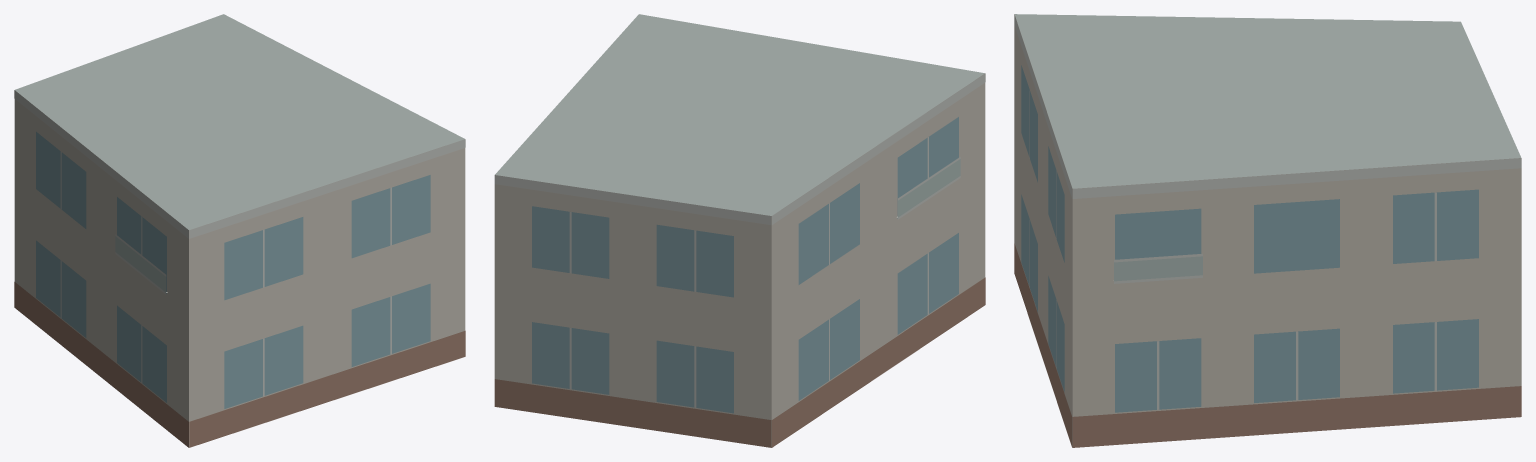
File: survey-upis-32996016.glb
3 views of the same model, side by side, from view 1: azimuth 30°, elevation 25°; view 2: azimuth 150°, elevation 25°; view 3: azimuth 270°, elevation 25° (orthographic). The views are drawn at different scales.
Visible parts, largest first — view 1: survey-upis-32996016.tmp; view 2: survey-upis-32996016.tmp; view 3: survey-upis-32996016.tmp.
Part boxes in pixels (bbox=[...]): survey-upis-32996016.tmp: bbox=[14, 14, 465, 447]; survey-upis-32996016.tmp: bbox=[494, 14, 985, 447]; survey-upis-32996016.tmp: bbox=[1014, 14, 1521, 447].
Size of the model in its own units: 8.84 by 6.1 by 10.83.
